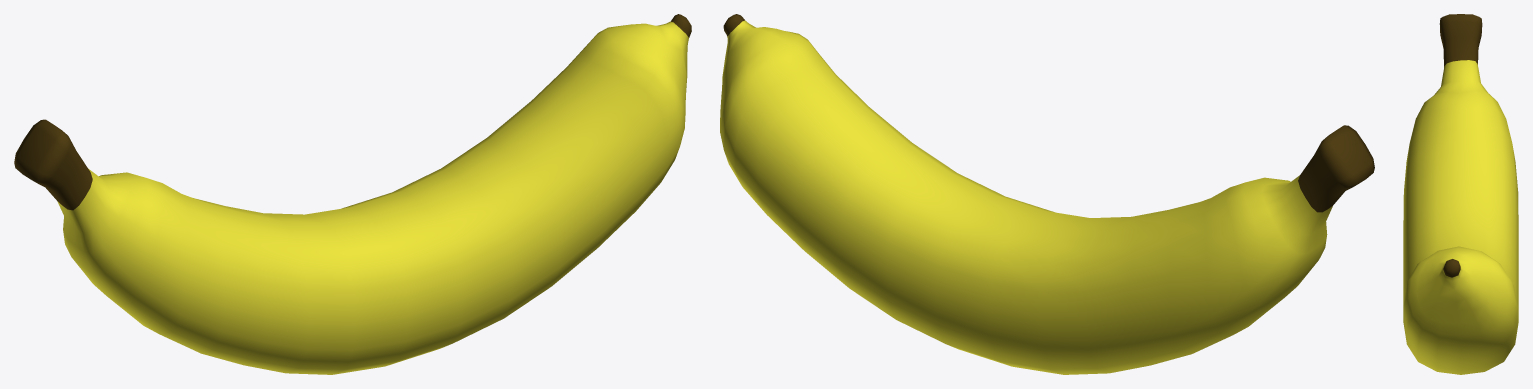
File: Banana.fbx
3 renders of one model, left to right at view 1: azimuth 30°, elevation 25°; view 2: azimuth 150°, elevation 25°; view 3: azimuth 270°, elevation 25°, orthographic. The views are drawn at different scales.
Visible parts, largest first — view 1: Banana; view 2: Banana; view 3: Banana.
Part boxes in pixels (x1,y1,x2,y2): Banana: (14, 14, 691, 374); Banana: (720, 14, 1374, 374); Banana: (1403, 14, 1518, 374).
Size of the model in its own units: 427 by 192 by 89.17.
